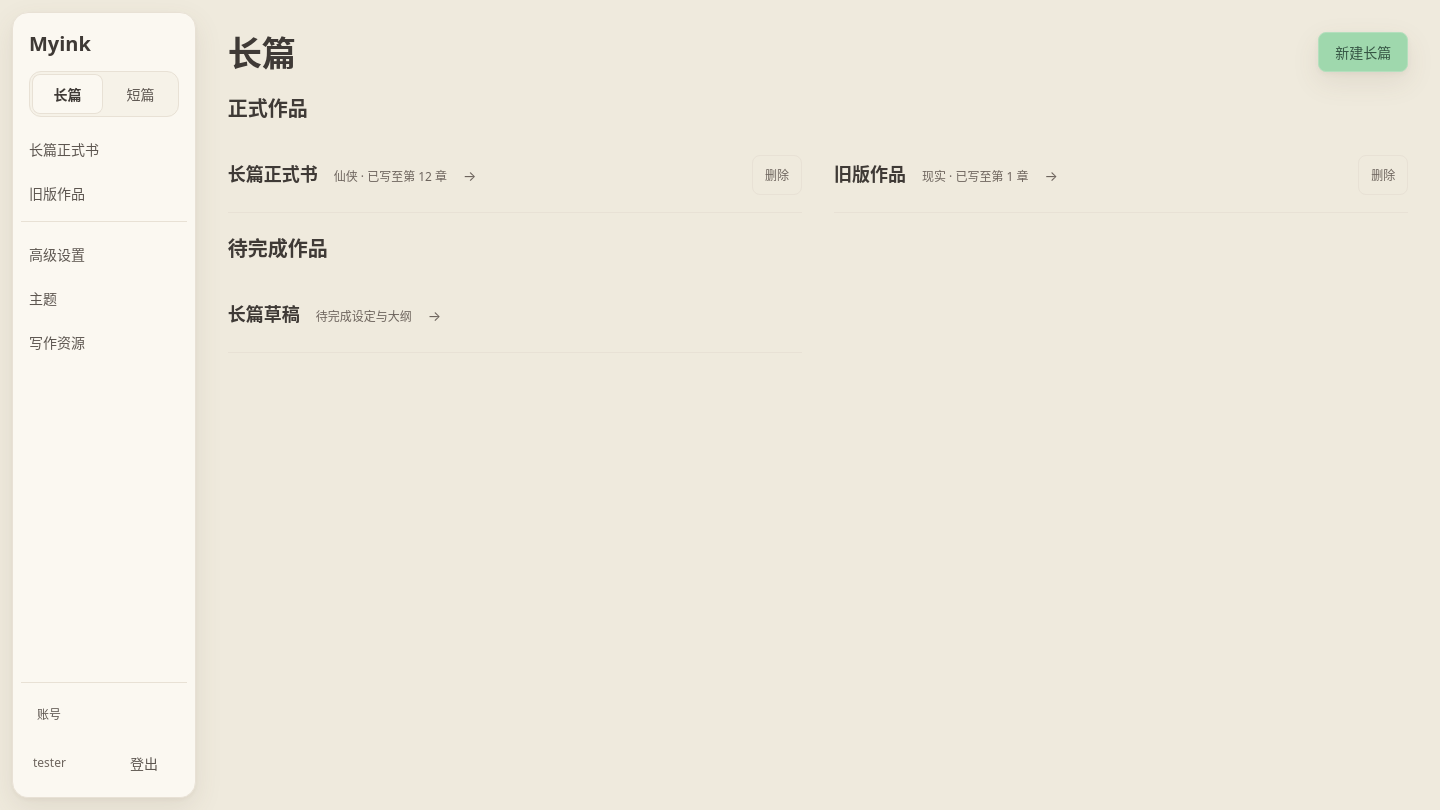
it: preserves the book and explains a running-task deletion conflict
Click the button with aria-label "删除《长篇正式书》".
click(777, 174)  # box top-left (752, 154), bottom-right (802, 194)
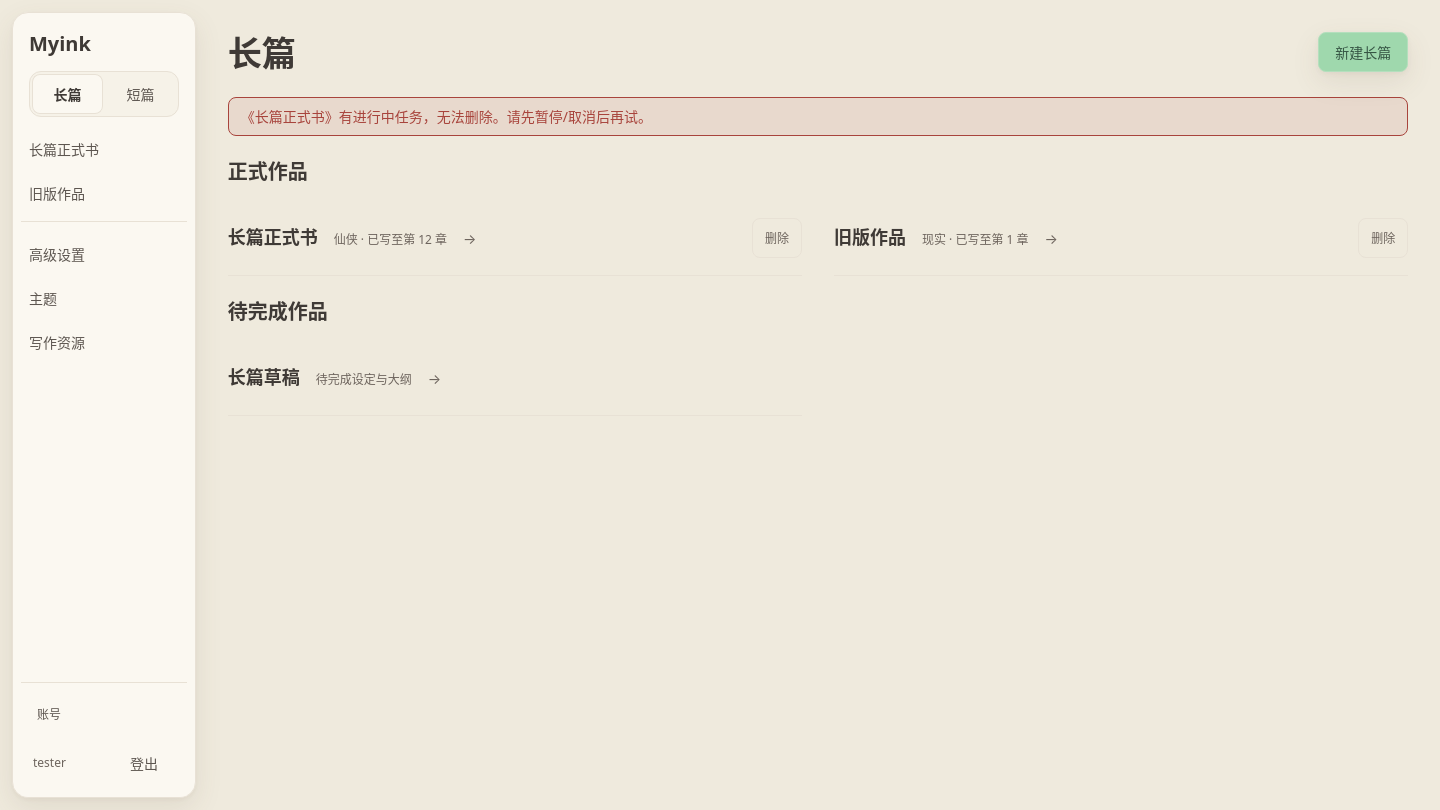
Check: the text "长篇正式书" next to "仙侠 · 已写至第 12 章" is shown, box top-left (228, 225), bottom-right (318, 249)
Check: the message shows "进行中任务", box top-left (241, 107), bottom-right (652, 126)
